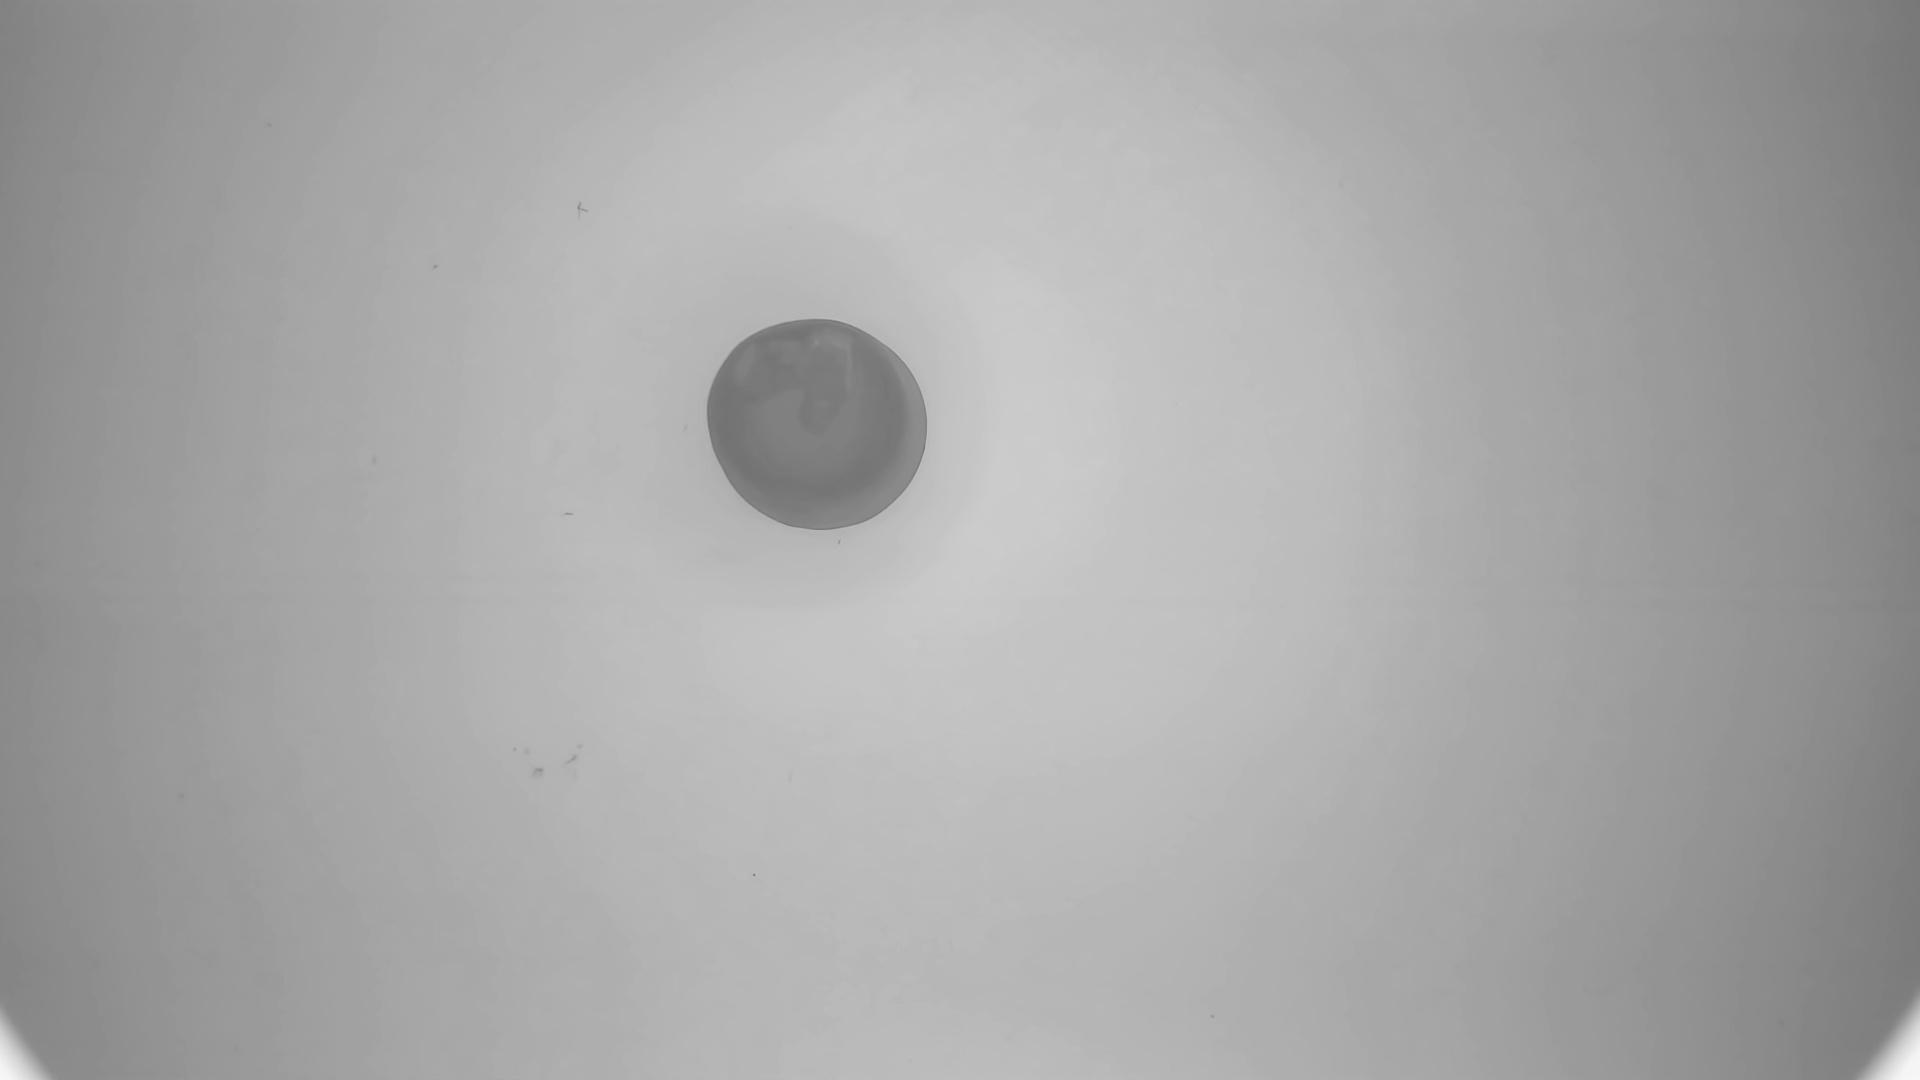abnormal: (708, 318, 932, 531)
